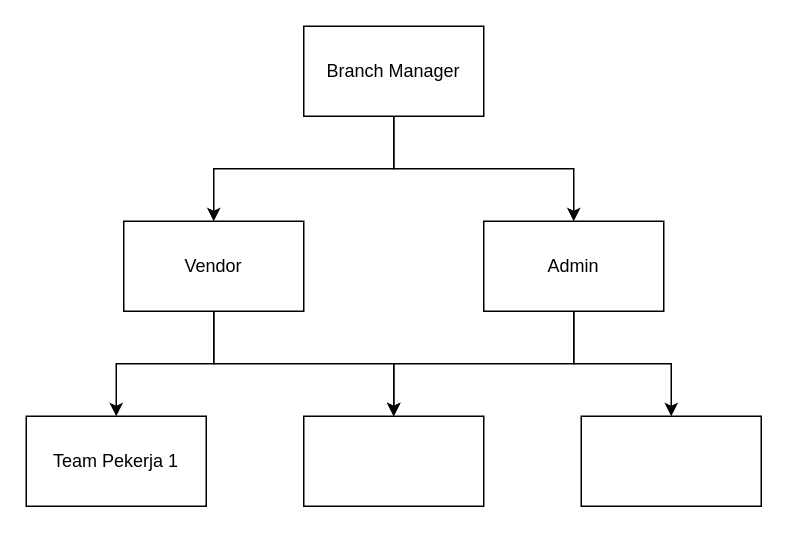
This 788x533 diagram has some shape labels left out. Here are the shapes that lost their labels. From the top down, the centre of each, then its label:
At point (393, 460): "Team Pekerja 2".
At point (670, 460): "Team Pekerja 3".
